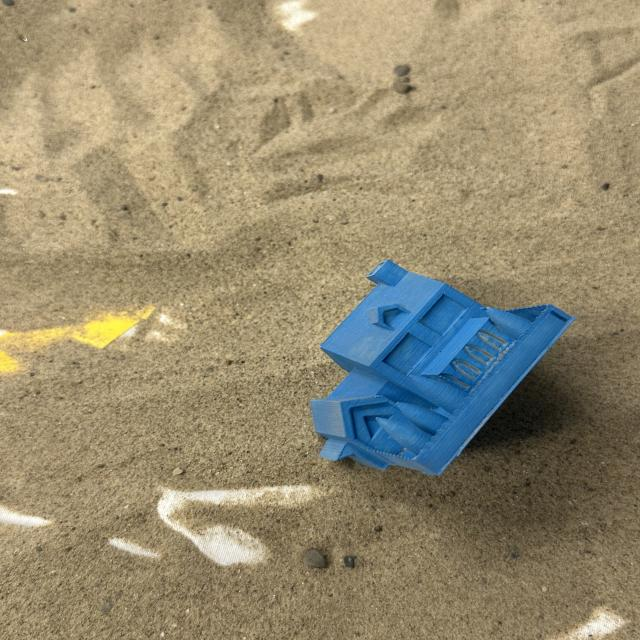house: (308, 258, 577, 477)
